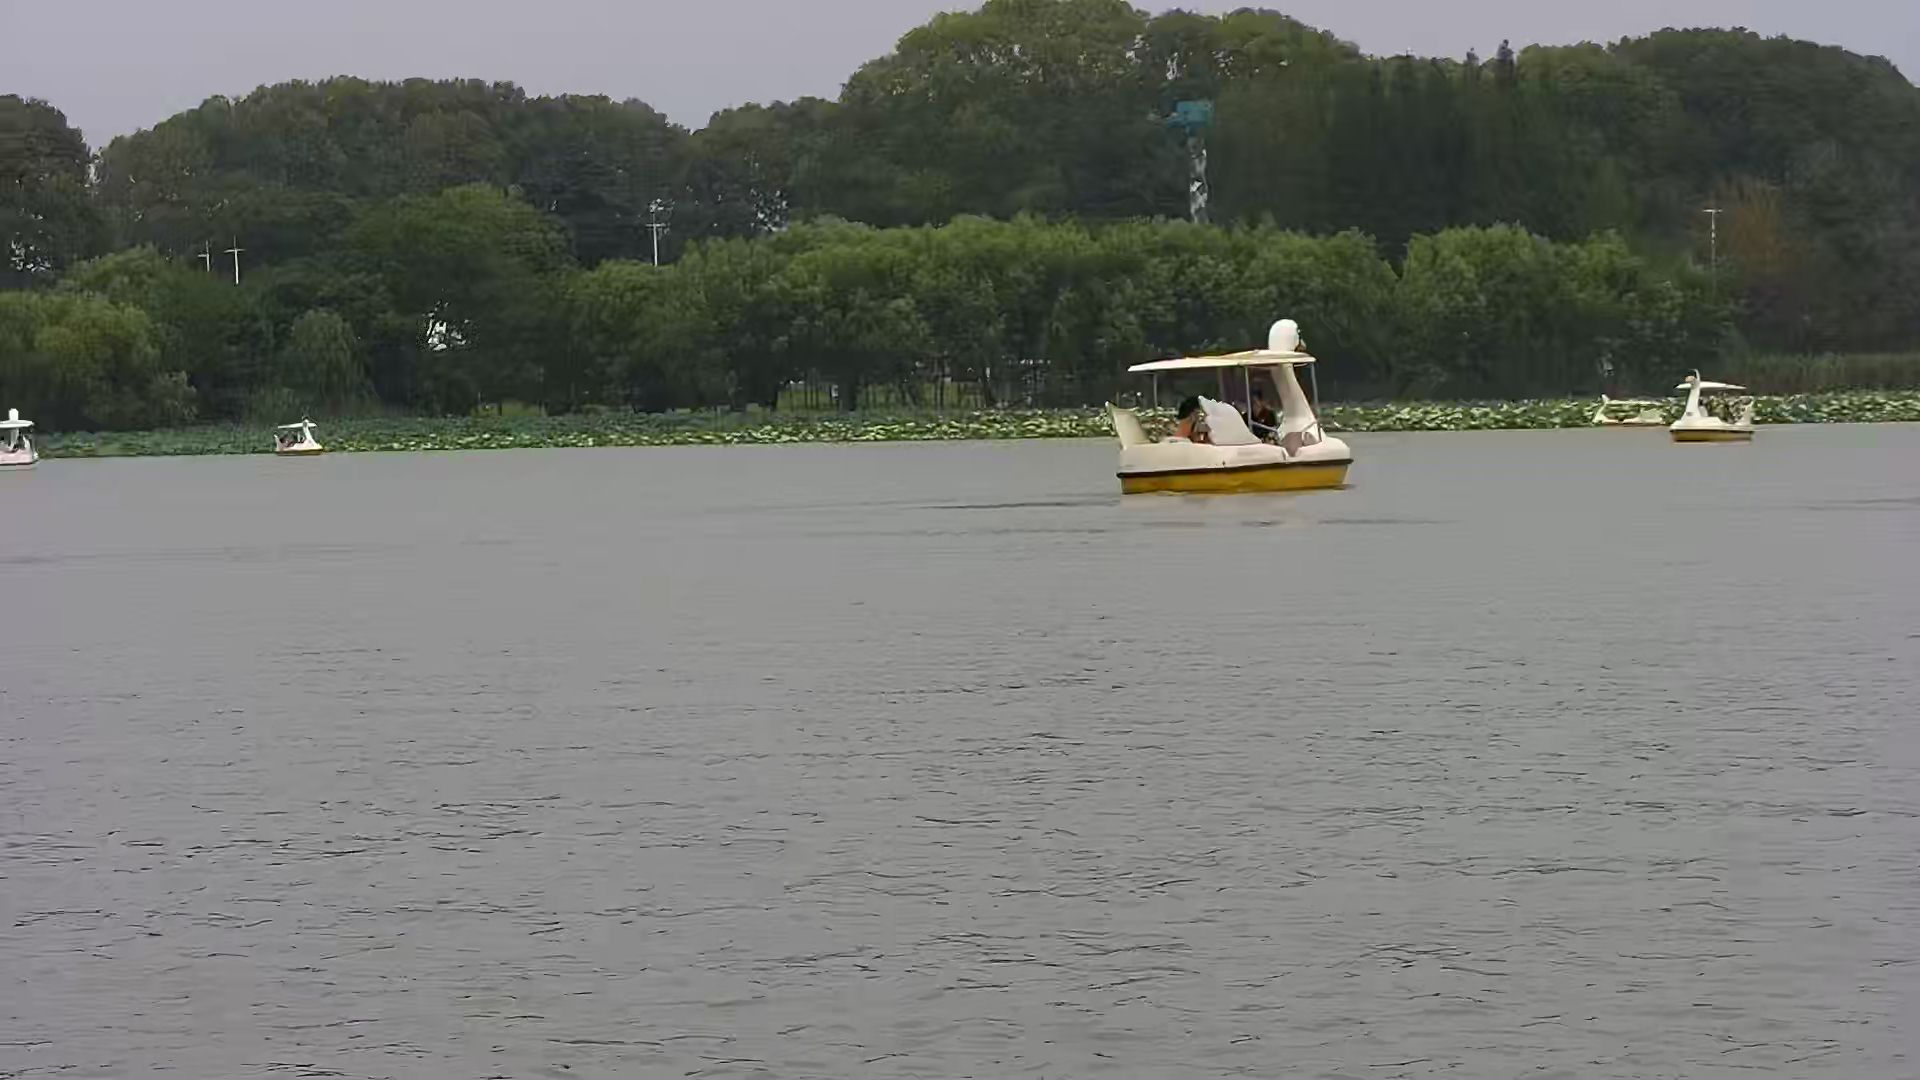boat: (1096, 320, 1365, 506), (1658, 368, 1760, 446), (1, 407, 42, 468), (272, 415, 323, 451)
